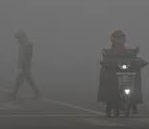person: (100, 29, 144, 117), (10, 29, 44, 99)
